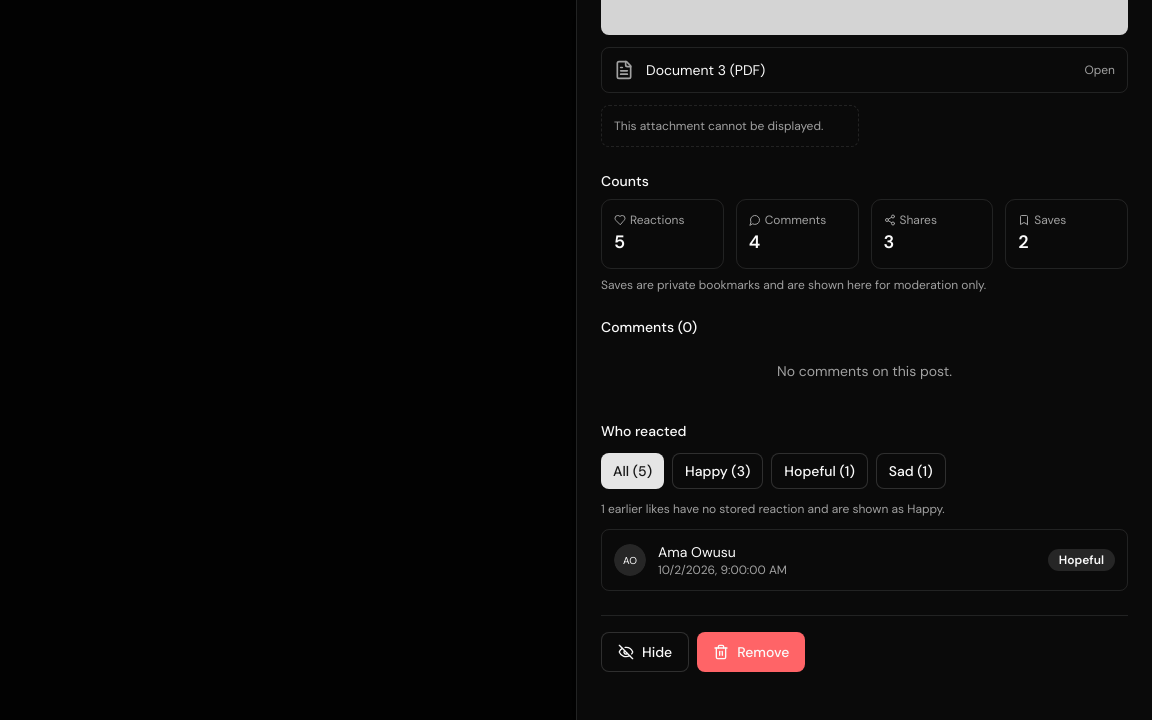
Test: PostDetailSheet › filters the list when a reaction tab is chosen
(page scrolled)
Expected: the text "Ama Owusu" is shown, [658, 543, 736, 561]
Click the button "Sad (1)" at (911, 471), box [876, 453, 946, 489]
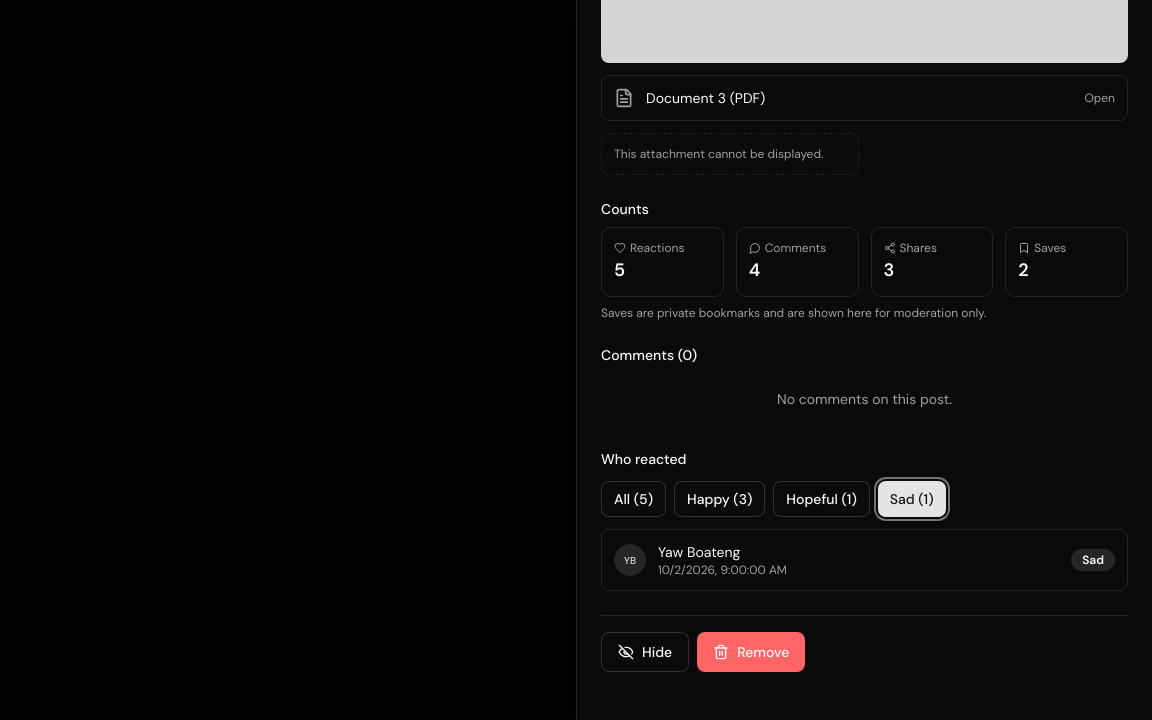
Expected: the text "Yaw Boateng" is shown, [658, 543, 740, 561]
Expected: the text "Ama Owusu" is gone
